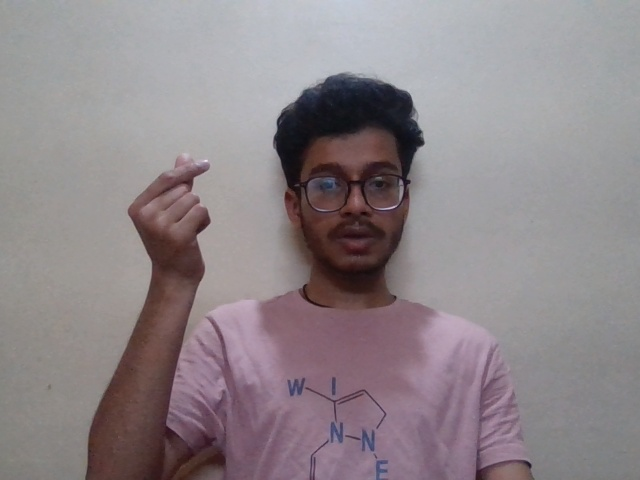J: (118, 140, 228, 274)
